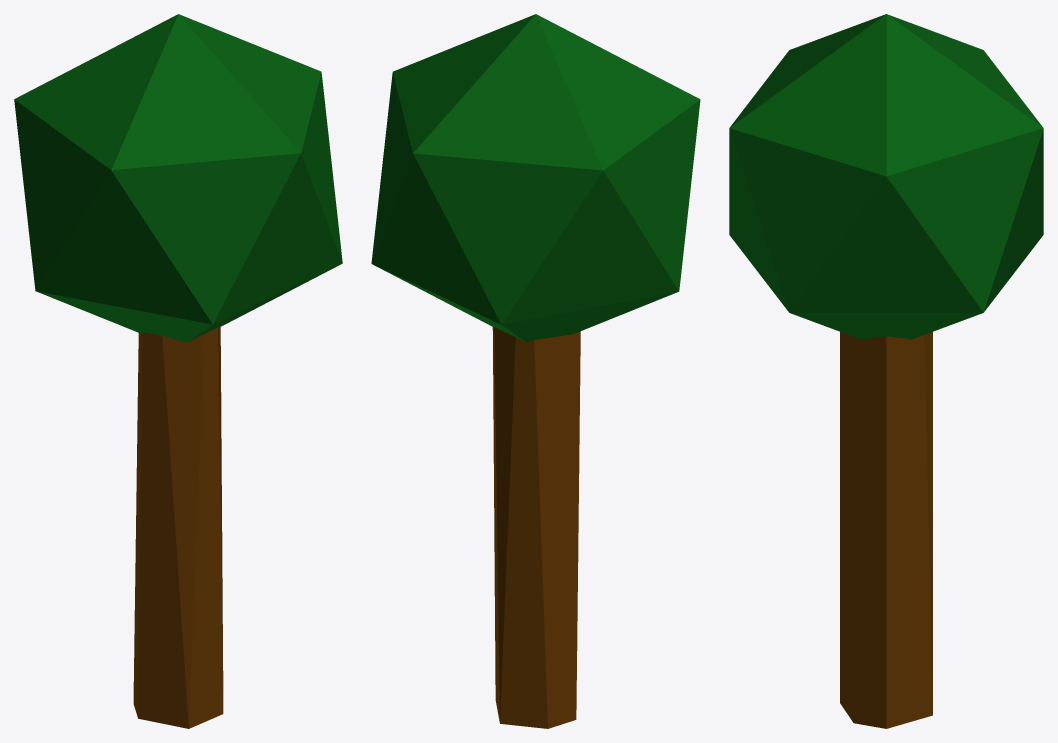
Rendered from tree.fbx.
3 renders of one model, left to right at view 1: azimuth 30°, elevation 25°; view 2: azimuth 150°, elevation 25°; view 3: azimuth 270°, elevation 25°, orthographic.
Parts seen in each view (by area): view 1: Cylinder; view 2: Cylinder; view 3: Cylinder.
Part boxes in pixels (left/top/right/bottom): Cylinder: left=14, top=14, right=342, bottom=728; Cylinder: left=371, top=14, right=700, bottom=728; Cylinder: left=729, top=14, right=1043, bottom=728.
Bounding box in the file's own units: 106 × 247 × 101.
